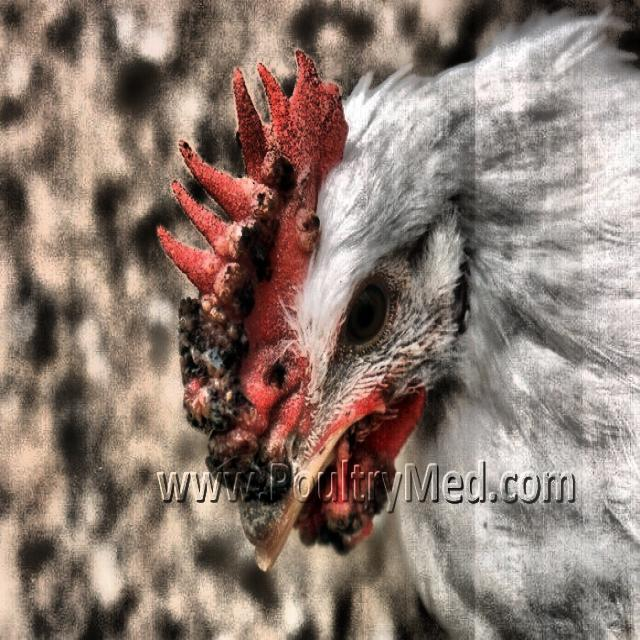Fowlpox: (162, 149, 396, 566)
